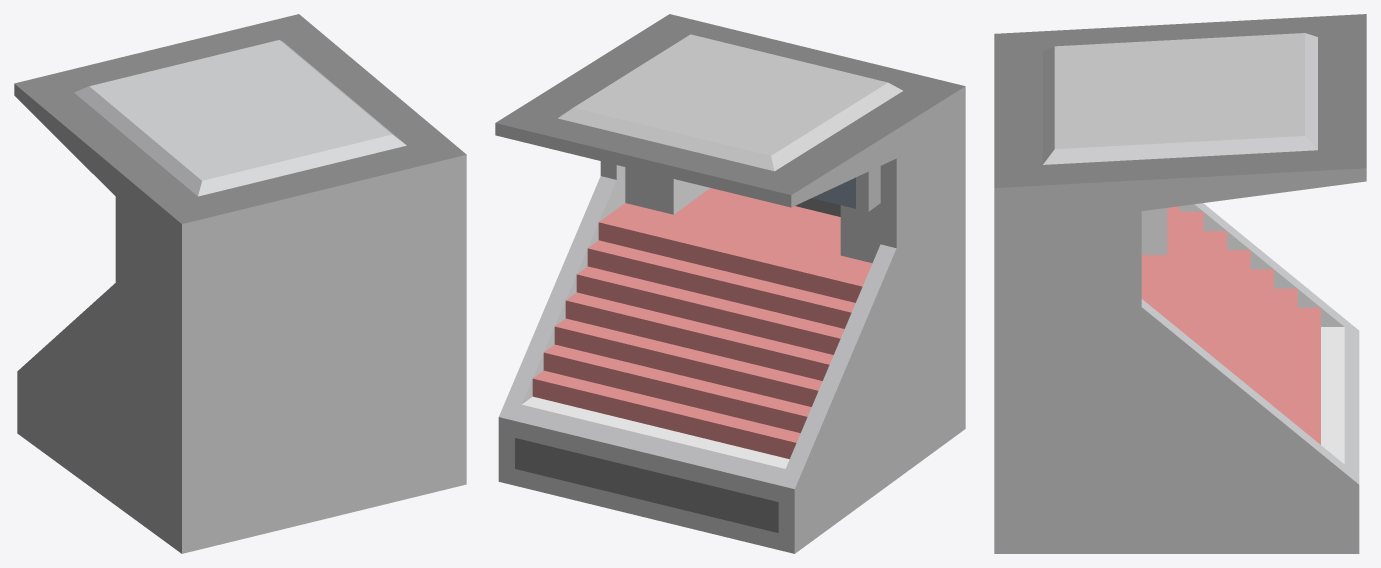
The model's file is grandStandCovered.glb.
3 views of the same model, side by side, from view 1: azimuth 30°, elevation 25°; view 2: azimuth 150°, elevation 25°; view 3: azimuth 270°, elevation 25° (orthographic). The views are drawn at different scales.
Visible parts, largest first — view 1: grandStandCovered; view 2: grandStandCovered; view 3: grandStandCovered.
Boxes of the visible parts, bbox=[...] form: grandStandCovered: bbox=[14, 14, 466, 553]; grandStandCovered: bbox=[495, 14, 965, 553]; grandStandCovered: bbox=[994, 14, 1366, 553].
Bounding box in the file's own units: 1 × 1.19 × 1.02.
